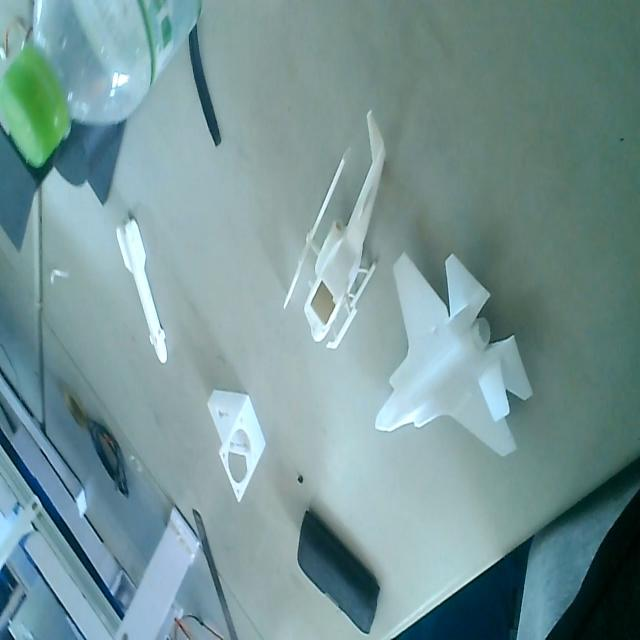Helicopter: (288, 108, 386, 356)
Jet: (377, 239, 529, 474)
Rocket: (114, 210, 170, 373)
